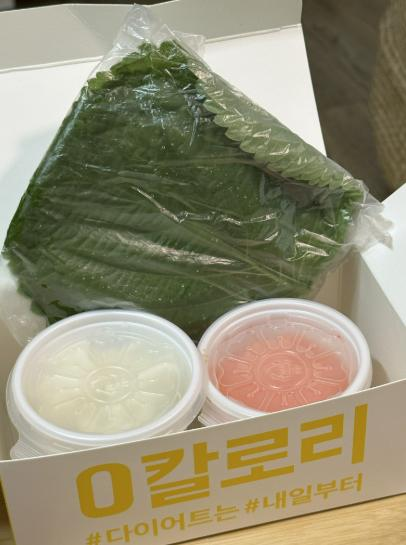Lunch Box: (0, 0, 405, 544), (2, 6, 385, 340)
cup: (6, 311, 206, 458), (199, 299, 371, 424)
